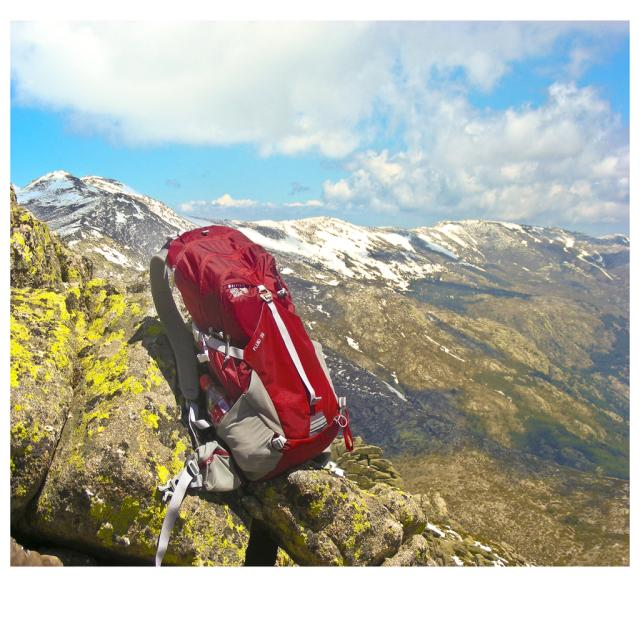backpack: (148, 219, 347, 479)
